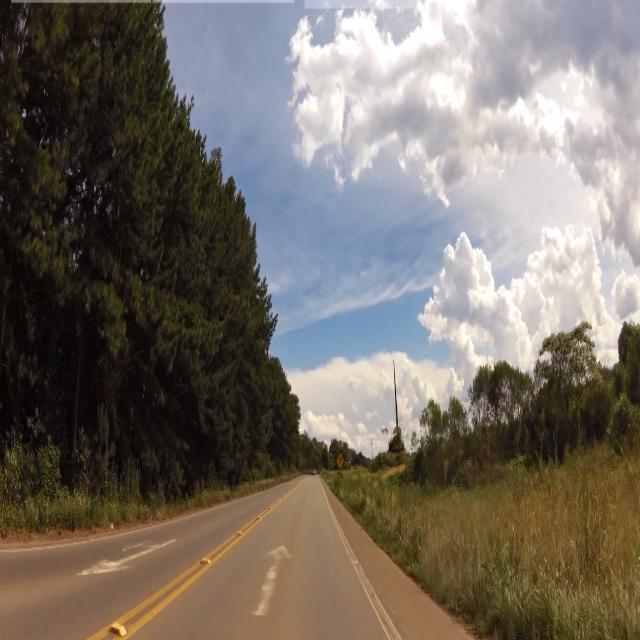A-2b: (336, 450, 345, 469)
